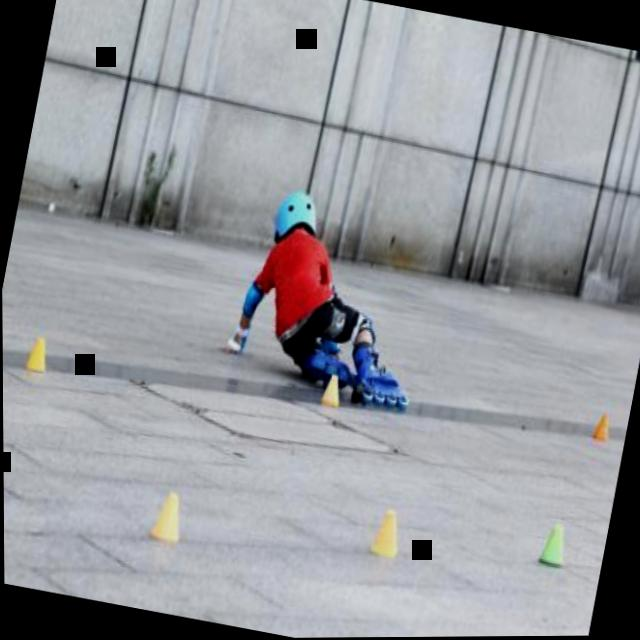Fall-Detected: (210, 170, 446, 421)
